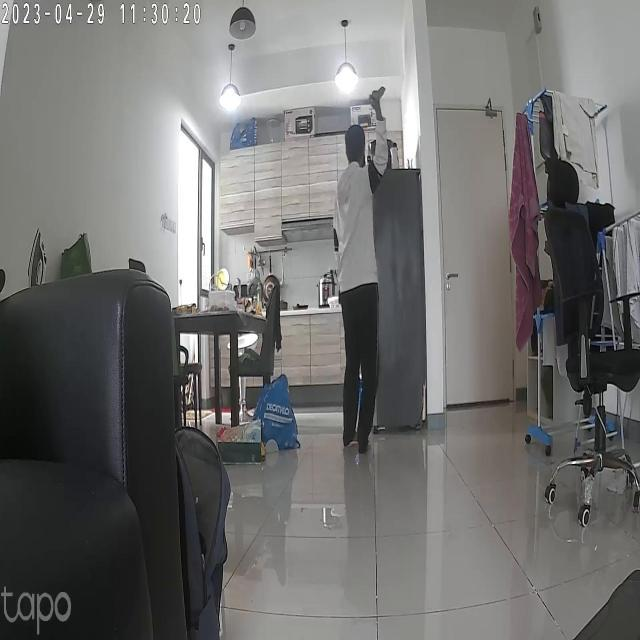Knife: (362, 80, 398, 112)
